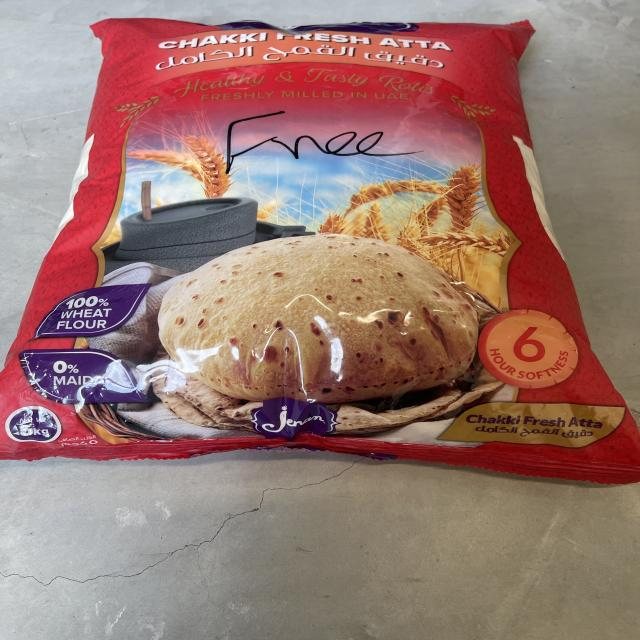object_name: (11, 22, 604, 464)
